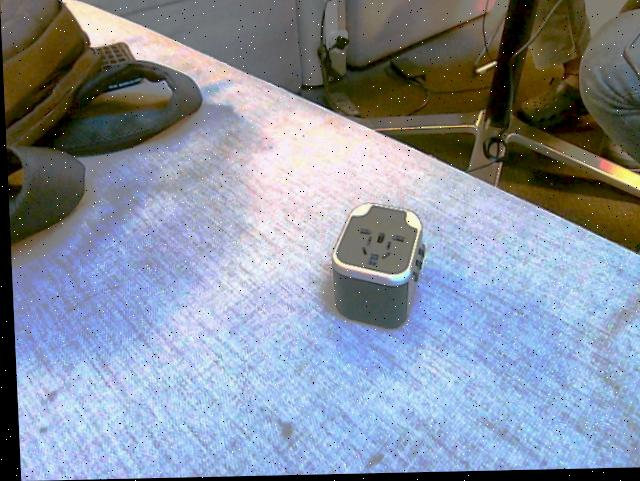adapter: (325, 203, 426, 330)
